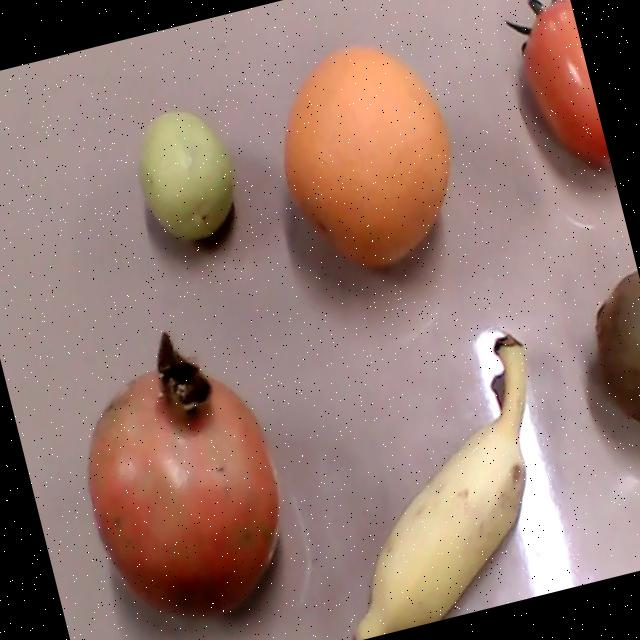kiwi: (596, 271, 640, 424)
lemon: (138, 111, 231, 241)
orange: (283, 47, 449, 265)
pomegranate: (87, 330, 280, 617)
tomato: (506, 0, 611, 168)
